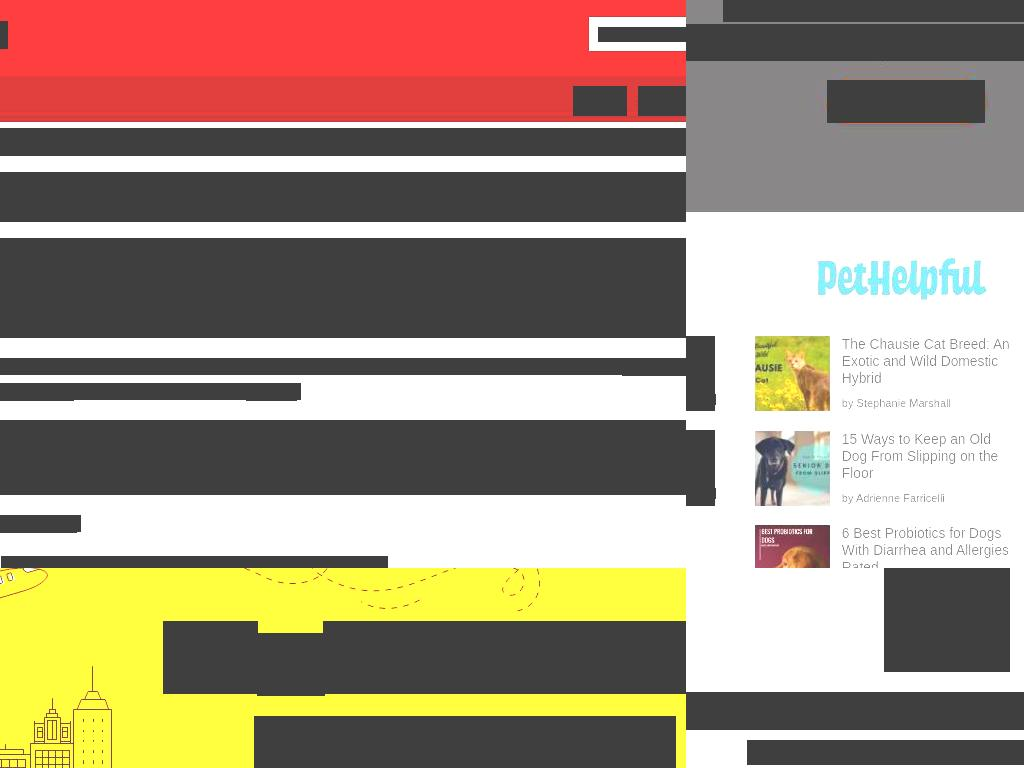button: (827, 80, 985, 123), (573, 86, 627, 116), (638, 86, 686, 116), (1, 556, 120, 568), (0, 515, 77, 533), (0, 383, 74, 401), (173, 556, 278, 568), (622, 358, 686, 376), (246, 383, 297, 401)
field: (598, 27, 686, 42)
heading: (323, 621, 686, 694), (0, 128, 686, 156), (686, 692, 1024, 730), (841, 337, 1010, 386), (841, 431, 998, 481), (841, 526, 1009, 568), (163, 621, 258, 694), (747, 740, 1024, 765), (257, 633, 325, 696)
image: (755, 430, 1024, 506), (755, 336, 1024, 411), (884, 568, 1010, 672), (817, 258, 989, 300), (723, 0, 1024, 22), (755, 525, 830, 568), (688, 393, 701, 406), (688, 487, 701, 500)
text: (0, 238, 686, 338), (0, 420, 686, 495), (0, 172, 686, 222), (254, 716, 676, 768), (686, 24, 1024, 61), (0, 358, 623, 375), (73, 383, 247, 400), (277, 556, 388, 568), (856, 397, 951, 410), (855, 491, 945, 504), (120, 556, 175, 568), (841, 397, 857, 410), (841, 491, 856, 504), (705, 394, 716, 405), (705, 488, 716, 499), (296, 383, 301, 400), (76, 515, 81, 532)
